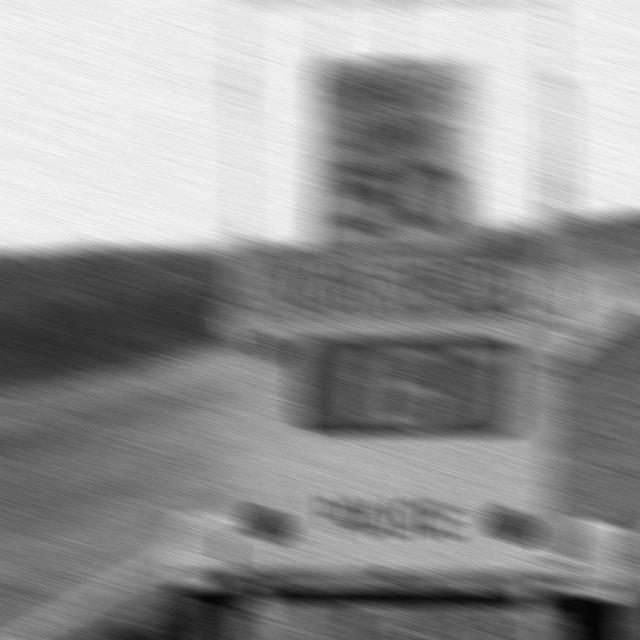speedLimit50: (310, 51, 472, 258)
